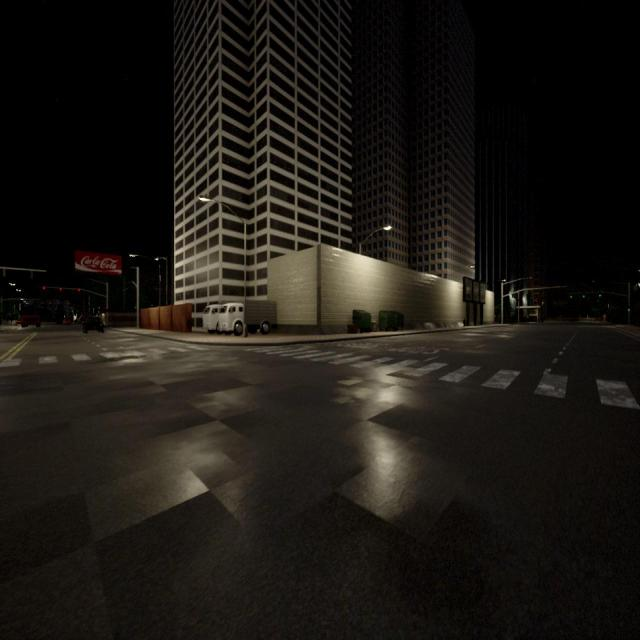Vehicle: (219, 300, 277, 335), (201, 304, 218, 334), (82, 316, 105, 334), (22, 309, 40, 328), (63, 319, 71, 326)
traffic_light: (583, 292, 585, 298), (59, 288, 62, 292), (78, 288, 80, 294), (570, 293, 572, 298), (599, 292, 601, 297), (628, 309, 630, 314), (43, 286, 45, 290), (106, 306, 108, 310), (135, 306, 136, 309)
